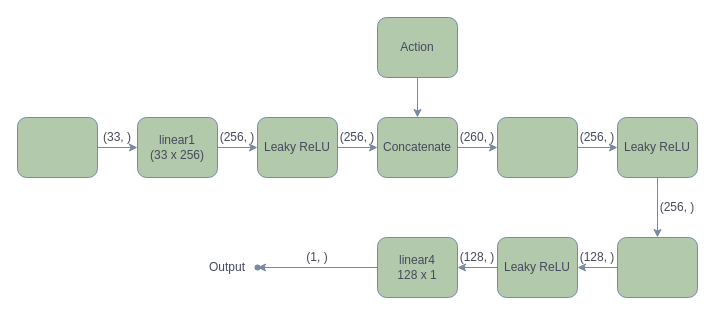
The diagram is 715 pixels wide and 315 high, and some of its shapes have lost their labels. Each missing label, with the box of its shape:
Input: (16, 116, 98, 178)
linear2 260 x 256: (496, 116, 578, 178)
linear3 256 x 128: (616, 236, 698, 298)
